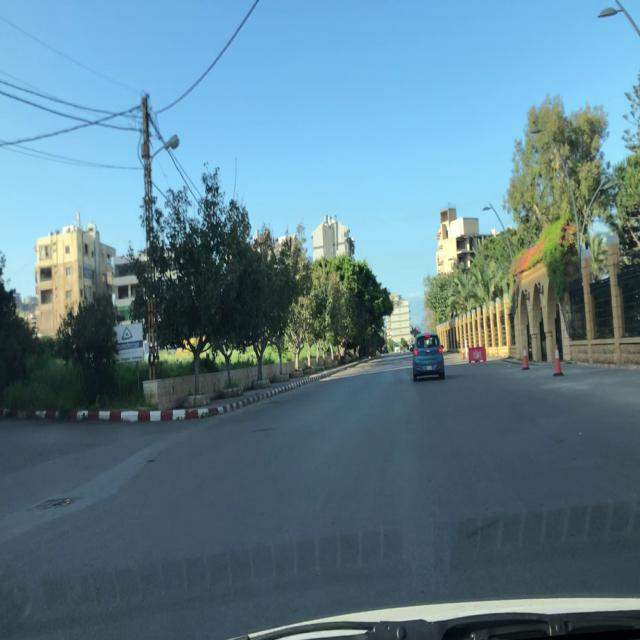Pothole: (27, 492, 82, 518), (249, 426, 274, 437), (267, 400, 282, 405)
